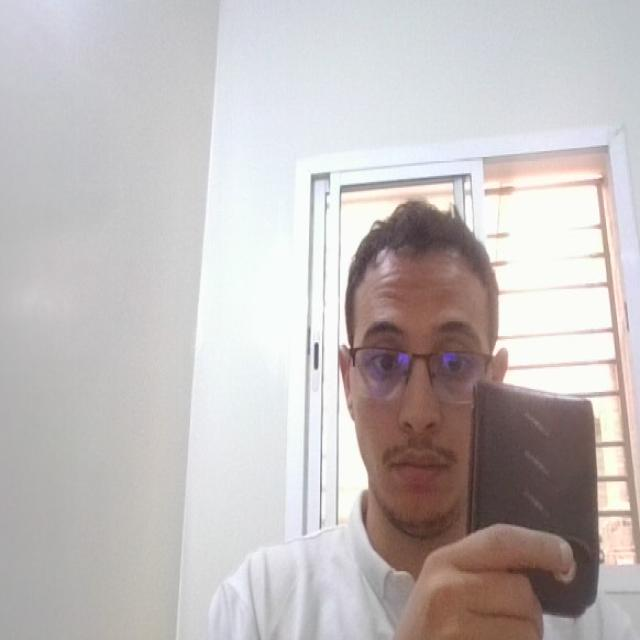wallet: (463, 368, 612, 622)
